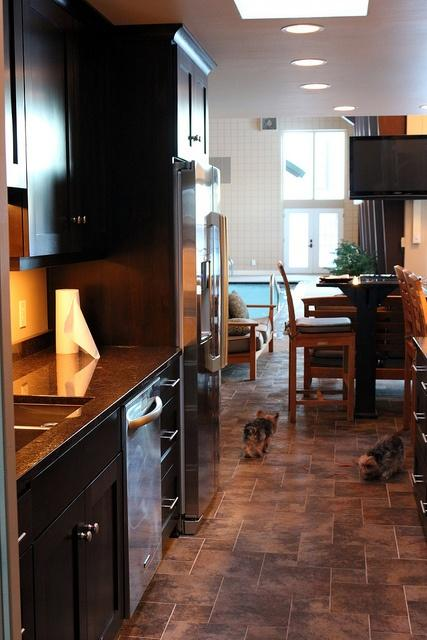AIO PC-Monitor-TV: (349, 133, 426, 200)
Kursi: (276, 260, 356, 423)
